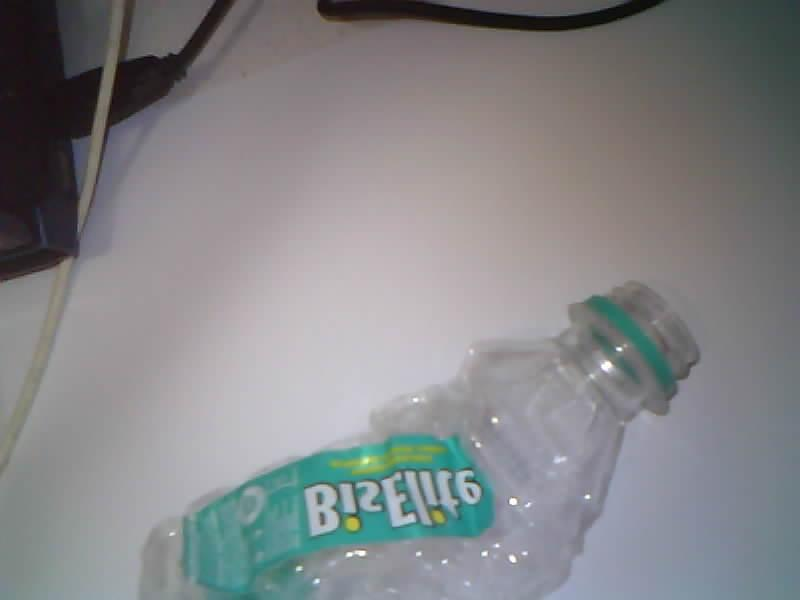non-biodegradable: (140, 282, 697, 599)
